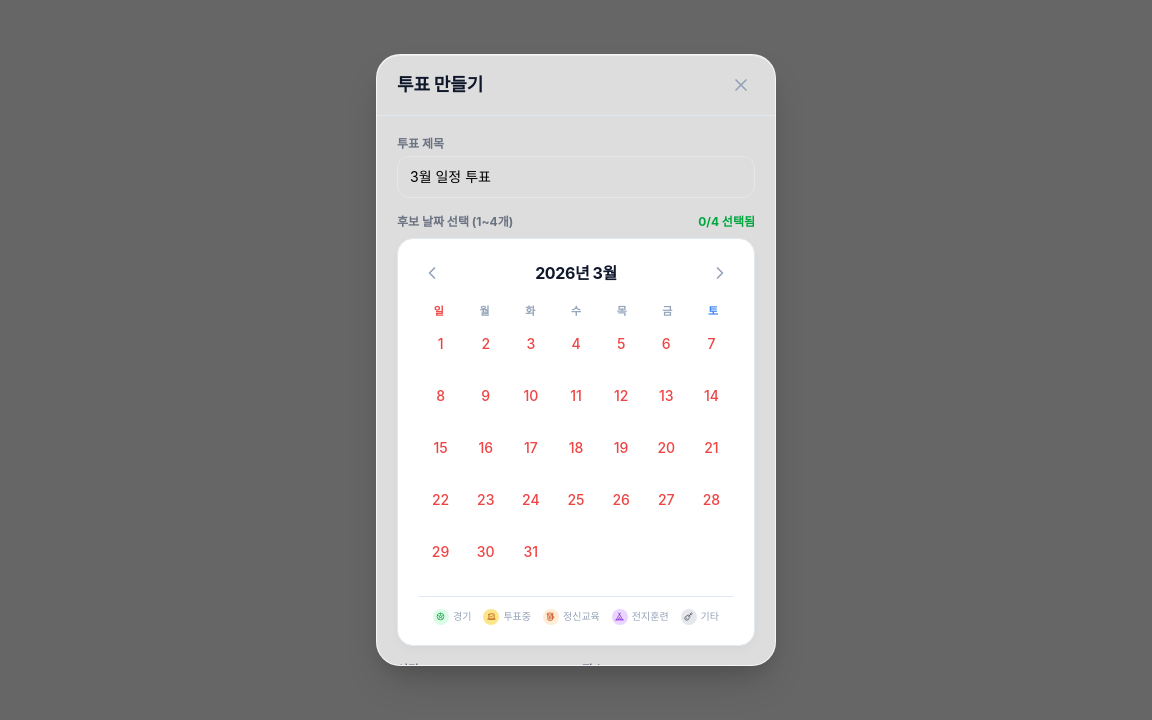
Scenario: PollCreateModal real API wiring › keeps the modal open and shows the API failure message
The image size is (1152, 720).
Click the button named "3월 21일": (711, 454) [695,432,727,476]
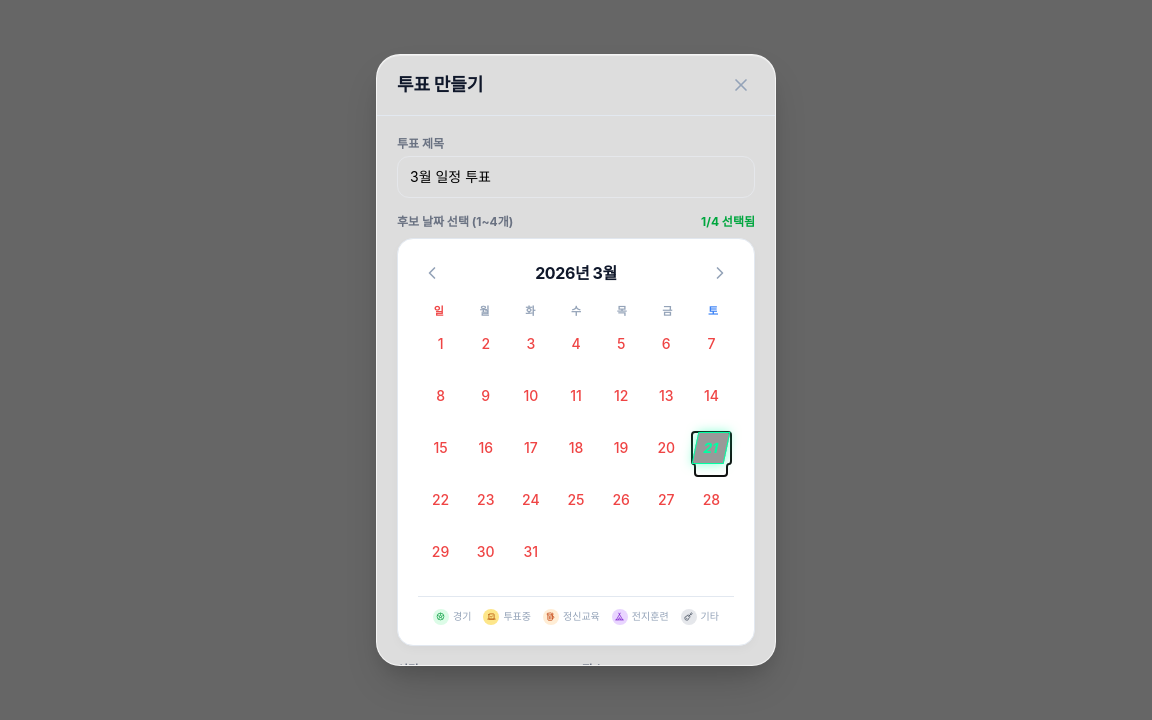
Click the button named "3월 22일": (441, 506) [425,484,457,528]
(page scrolled)
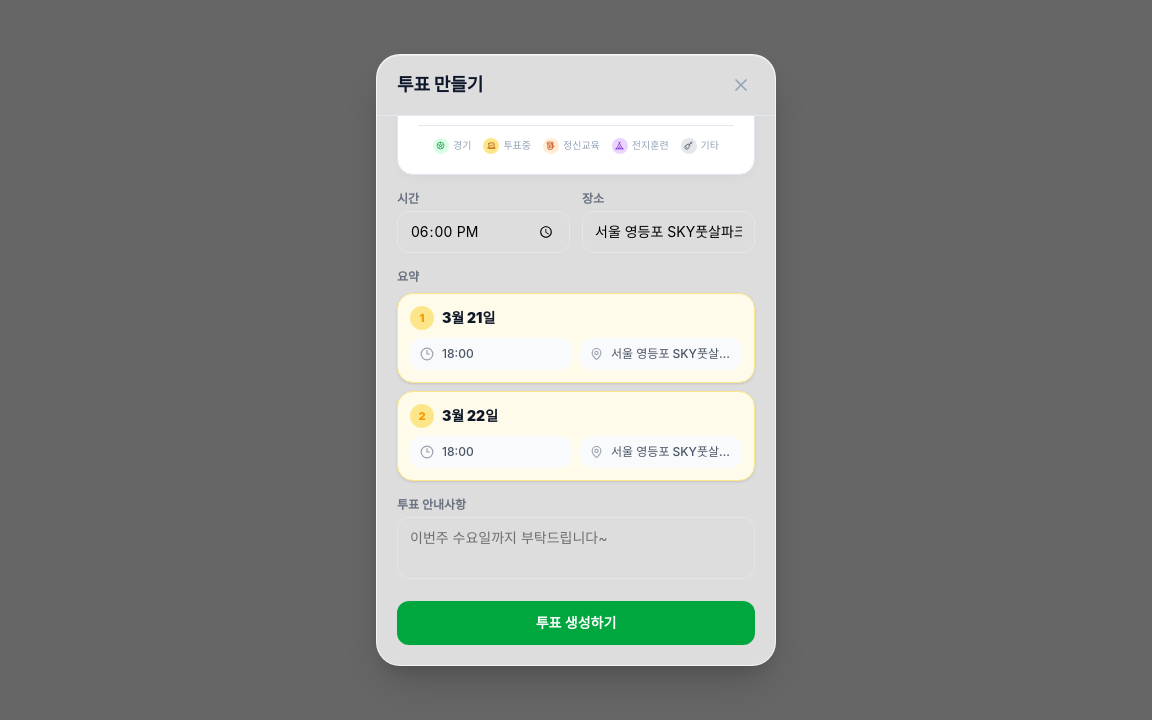
Click the button "투표 생성하기": (576, 623) [397,601,755,645]
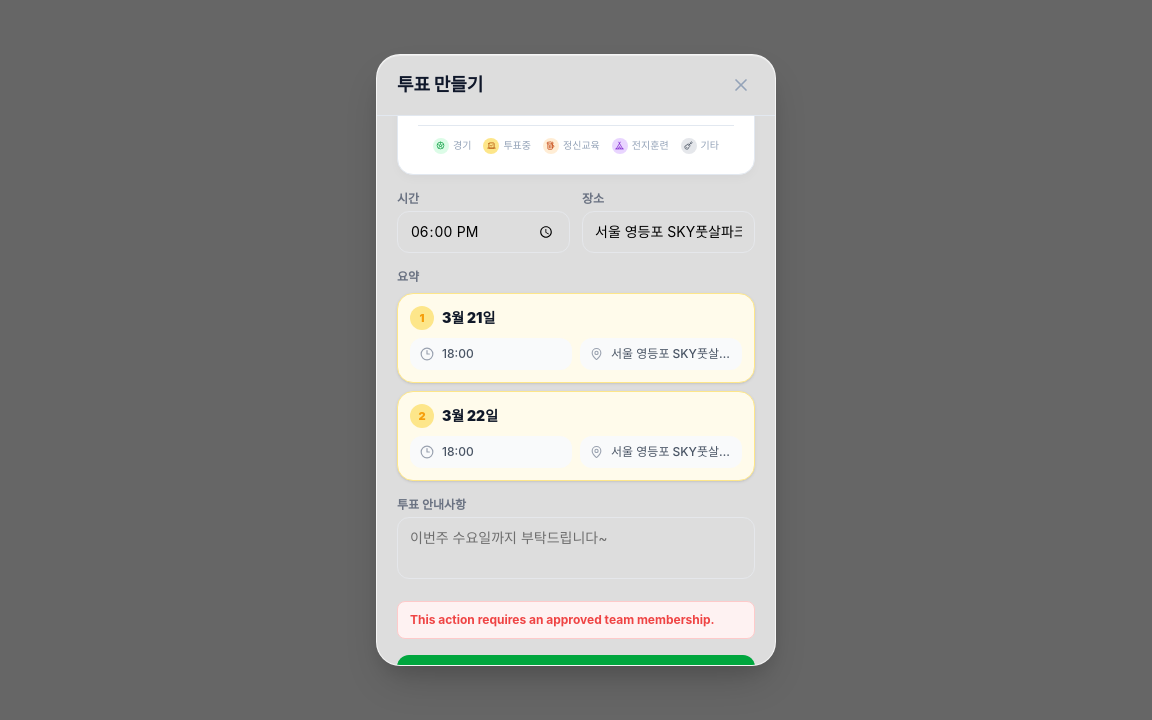
Expected: the message reads "This action requires an approved team membership.", [410,612,715,627]
